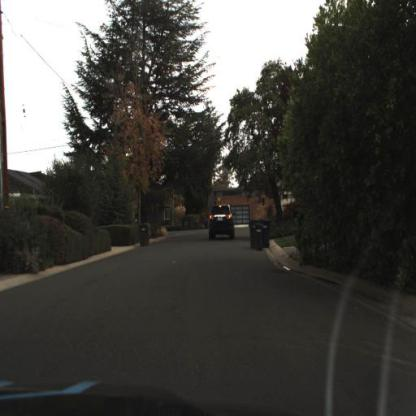car: (201, 184, 241, 255)
